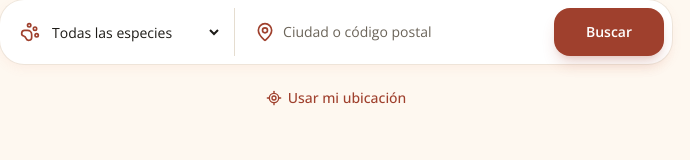
Scenario: HeroSearch — buscador del hero › permiso de ubicación denegado muestra mensaje amable
This screenshot has width=690, height=160.
Click the button "Usar mi ubicación". click: (336, 98)
box: [258,76,414,120]
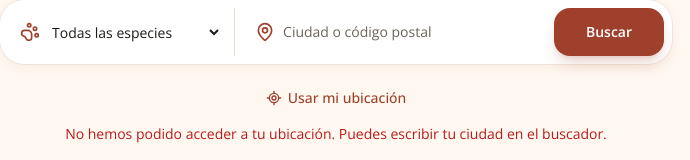
expect the message shows "No hemos podido acceder a tu ubicación. Puedes escribir tu ciudad en el buscador.": met, box [65,124,607,143]
